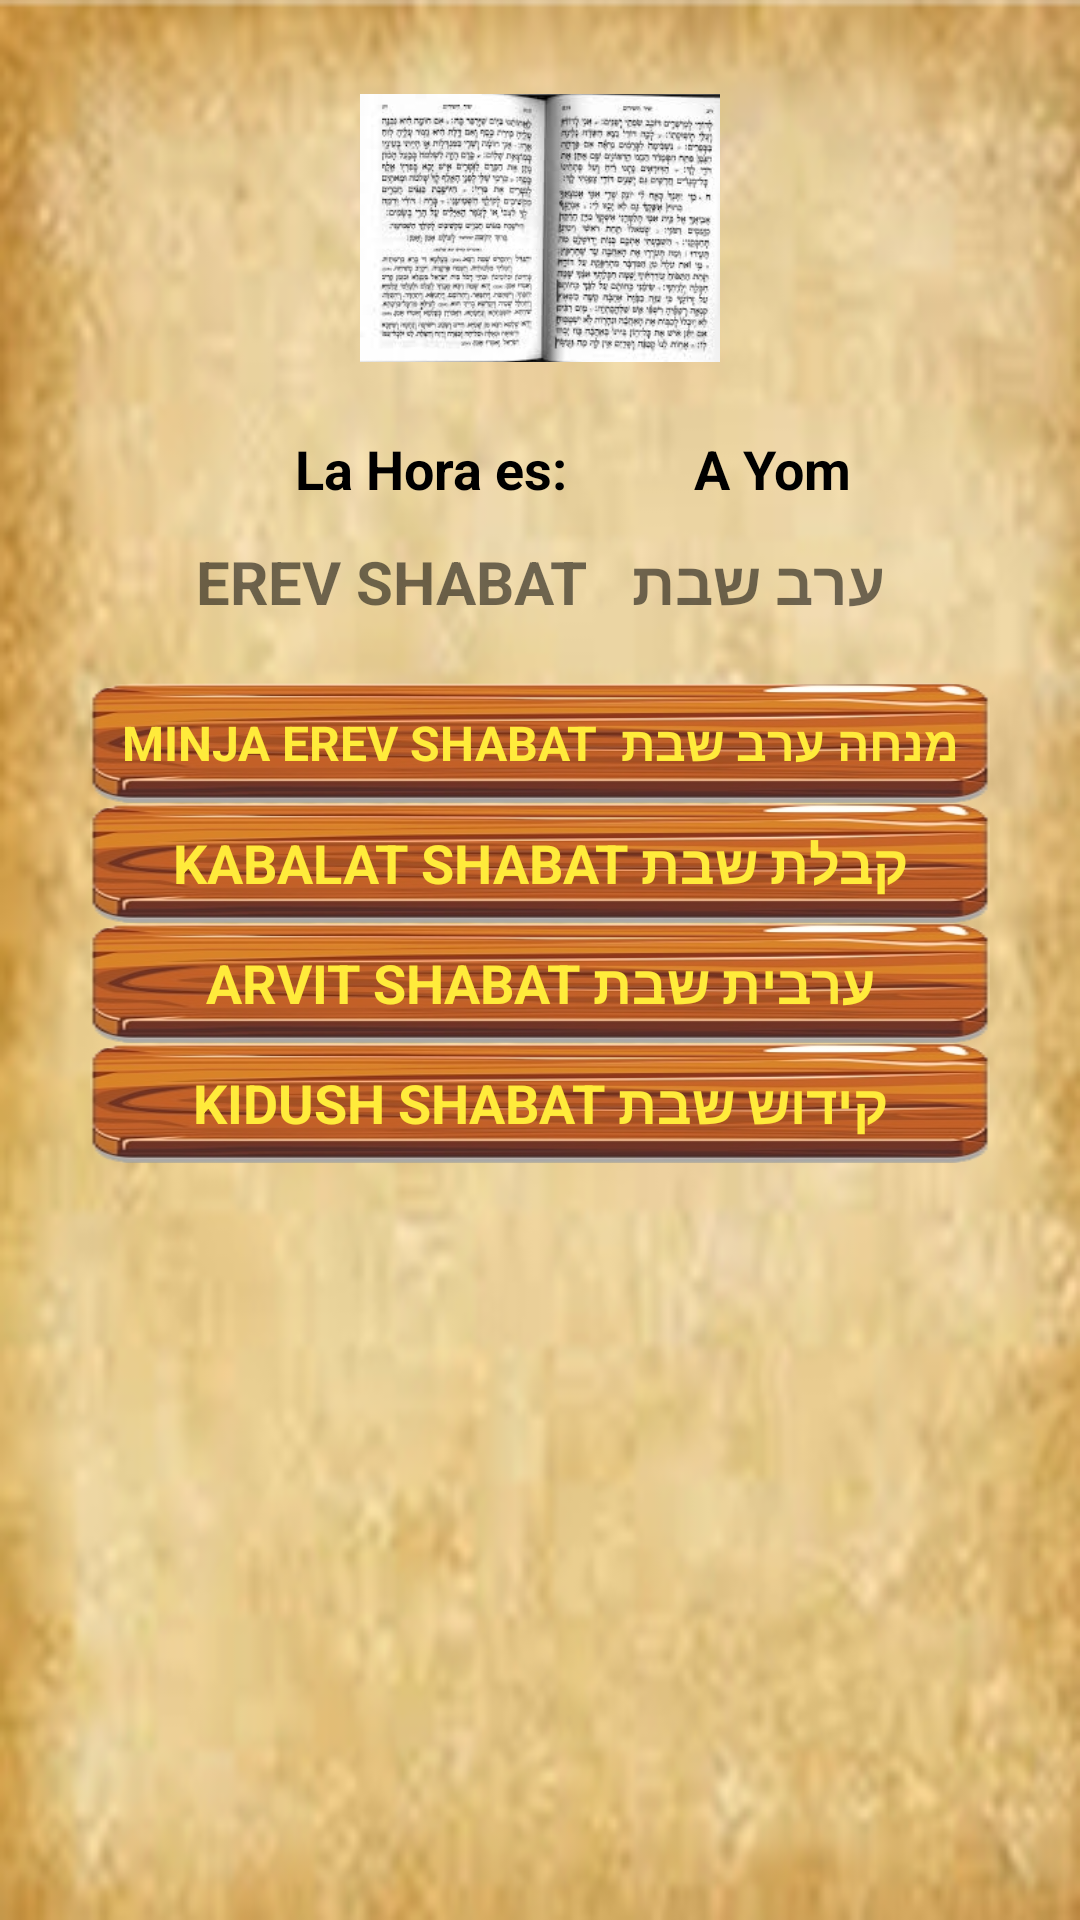

Where to tap for icons on this 1080px×1920px app screen, as [x,y]:
imagensidur: [540,228]
